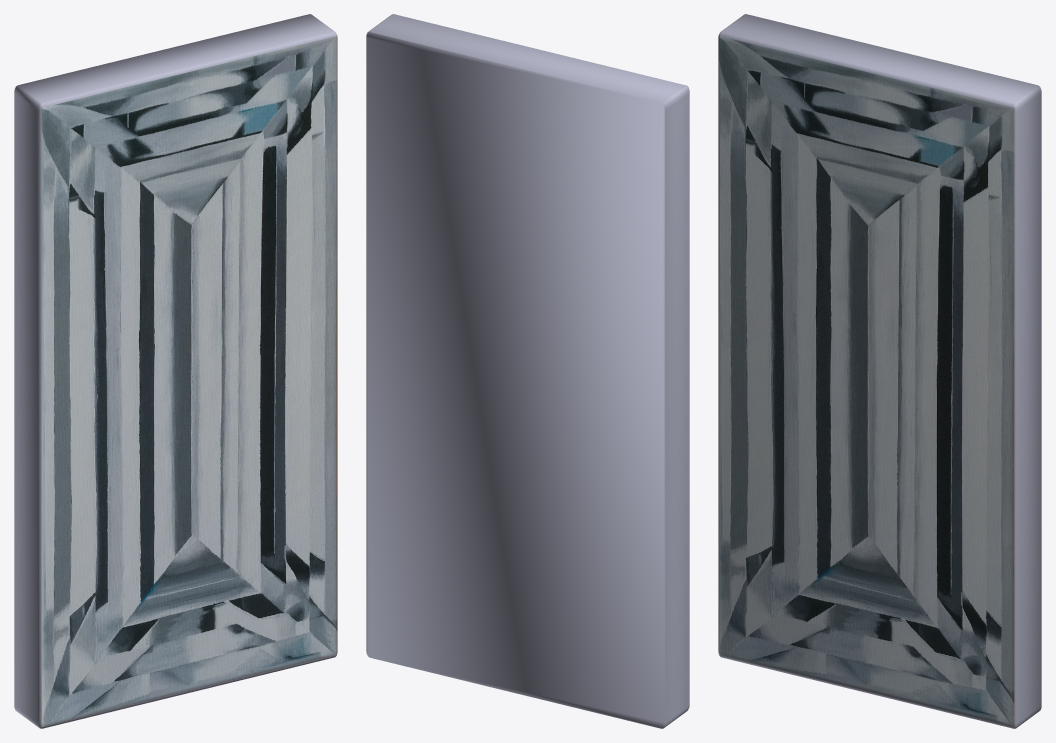
The model's file is brigitte.glb.
The picture shows the model from 3 angles, left to right: view 1: azimuth 30°, elevation 25°; view 2: azimuth 150°, elevation 25°; view 3: azimuth 330°, elevation 25°; orthographic projection.
Visible parts, largest first — view 1: brigitte; view 2: brigitte; view 3: brigitte.
Boxes of the visible parts, bbox=[...] form: brigitte: bbox=[14, 14, 337, 728]; brigitte: bbox=[366, 14, 689, 728]; brigitte: bbox=[718, 14, 1041, 728].
Size of the model in its own units: 0.2 by 0.4 by 0.03.
Materials: 2 (1 with a texture image).
